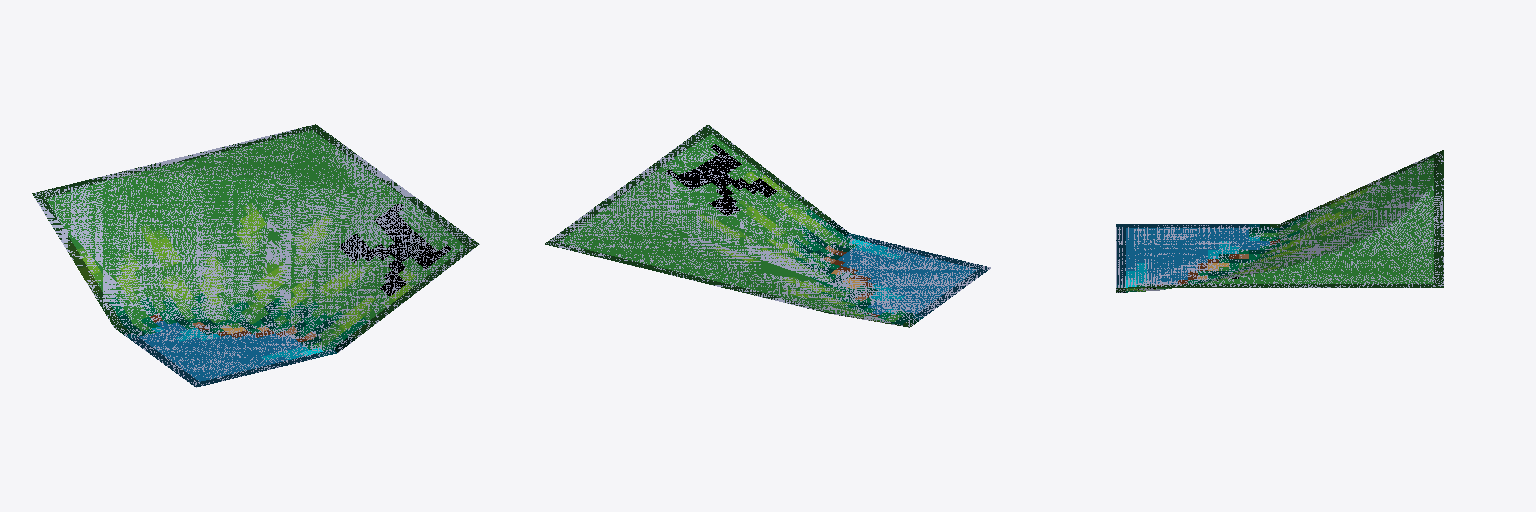
3 renders of one model, left to right at view 1: azimuth 30°, elevation 25°; view 2: azimuth 150°, elevation 25°; view 3: azimuth 270°, elevation 25°, orthographic.
Parts seen in each view (by area): view 1: Mesh1 Model; view 2: Mesh1 Model; view 3: Mesh1 Model.
Boxes of the visible parts, x1,y1,x2,y2 form: Mesh1 Model: [32, 124, 479, 387]; Mesh1 Model: [545, 125, 990, 327]; Mesh1 Model: [1116, 150, 1443, 292].
Bounding box in the file's own units: 32 × 8 × 32.
2 materials, 1 textured.